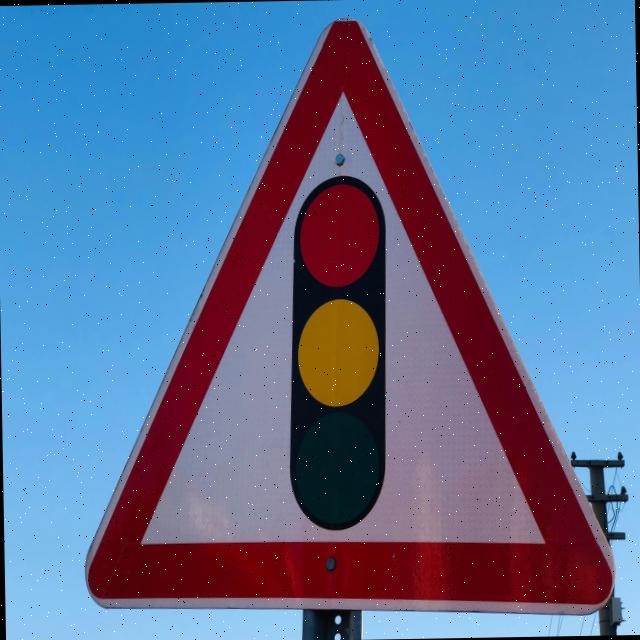light_traffic: (71, 2, 614, 624)
